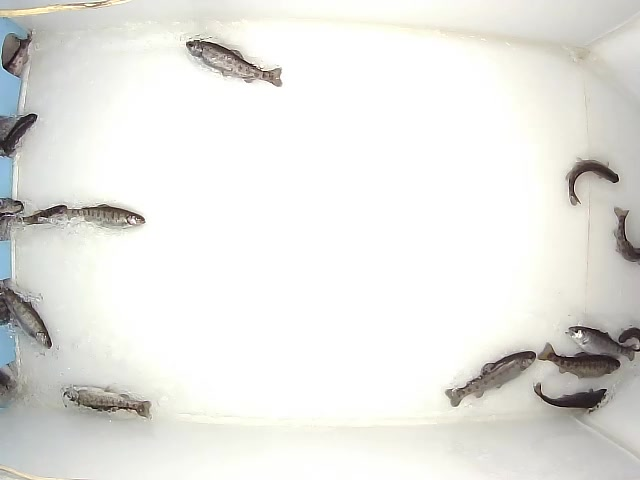fish: (442, 348, 537, 409), (184, 36, 285, 92), (63, 383, 154, 422), (534, 340, 622, 380), (563, 320, 636, 368), (1, 286, 52, 349), (564, 153, 620, 207), (65, 198, 148, 234), (529, 380, 609, 410), (14, 202, 74, 232)
